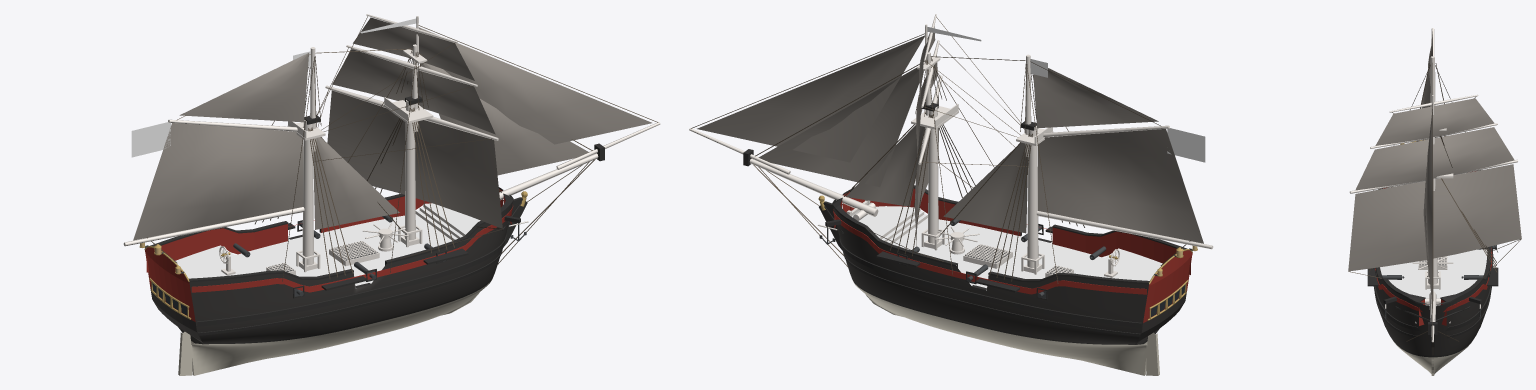
File: brigantine_v2_lod1.glb
The picture shows the model from 3 angles, left to right: view 1: azimuth 30°, elevation 25°; view 2: azimuth 150°, elevation 25°; view 3: azimuth 270°, elevation 25°; orthographic projection. The views are drawn at different scales.
Parts seen in each view (by area): view 1: SM_Brigantine_LOD1; view 2: SM_Brigantine_LOD1; view 3: SM_Brigantine_LOD1.
Part boxes in pixels (x1=…): SM_Brigantine_LOD1: x1=123, y1=14, x2=660, y2=375; SM_Brigantine_LOD1: x1=689, y1=14, x2=1213, y2=375; SM_Brigantine_LOD1: x1=1348, y1=28, x2=1521, y2=375.
Size of the model in its own units: 37.95 by 17.1 by 10.24.
